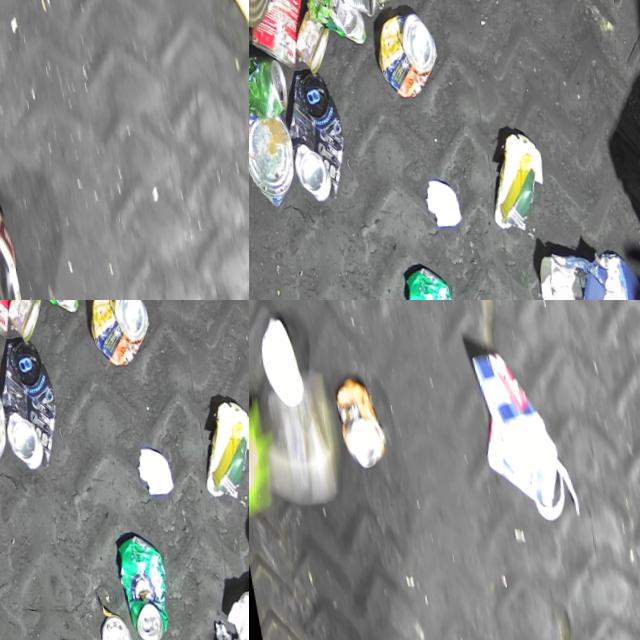can: (271, 66, 348, 201), (0, 334, 59, 469), (104, 528, 167, 640), (365, 5, 438, 97), (323, 371, 383, 471), (77, 300, 150, 364), (249, 0, 316, 68), (249, 111, 295, 207), (284, 5, 332, 72), (249, 47, 288, 121), (299, 0, 363, 44), (392, 260, 455, 300), (0, 300, 43, 339), (87, 609, 125, 640)
